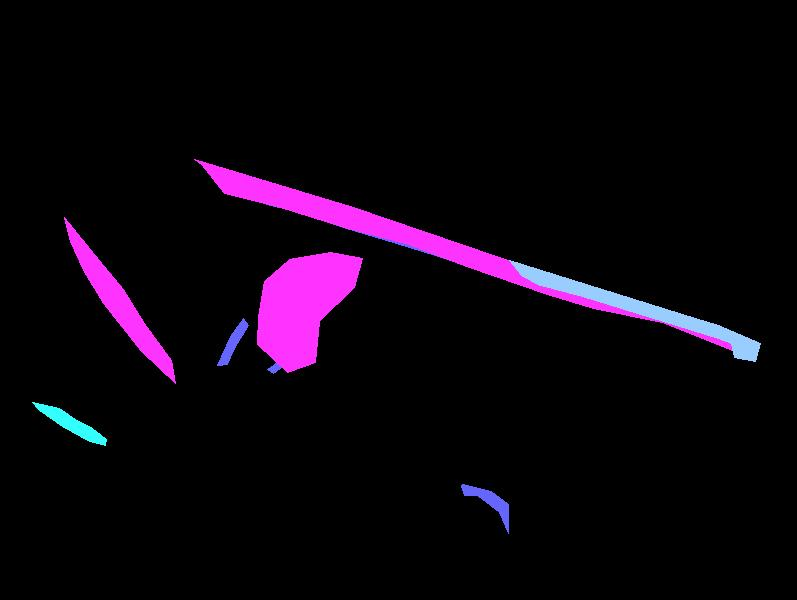Corrosion: (509, 260, 760, 361)
Dent: (194, 159, 758, 356), (64, 217, 175, 383), (257, 252, 362, 372)
Flaking: (32, 402, 106, 445)
Scratch: (223, 173, 505, 274), (461, 484, 508, 533), (217, 318, 248, 365), (267, 362, 281, 373)
